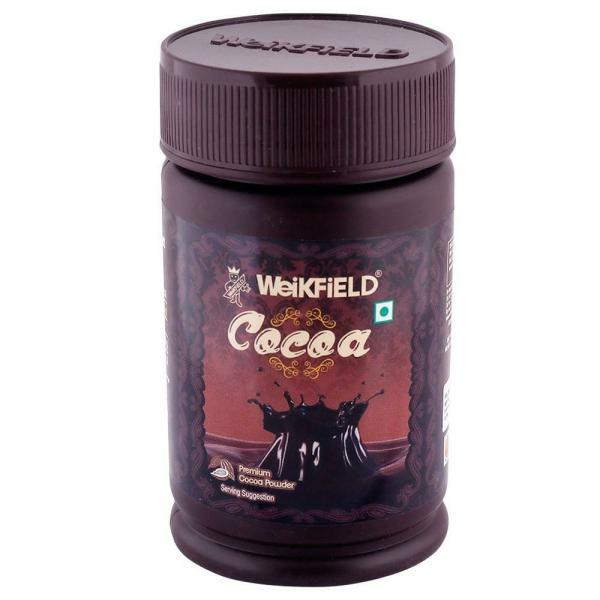Cocoa Powder: (161, 6, 461, 587)
